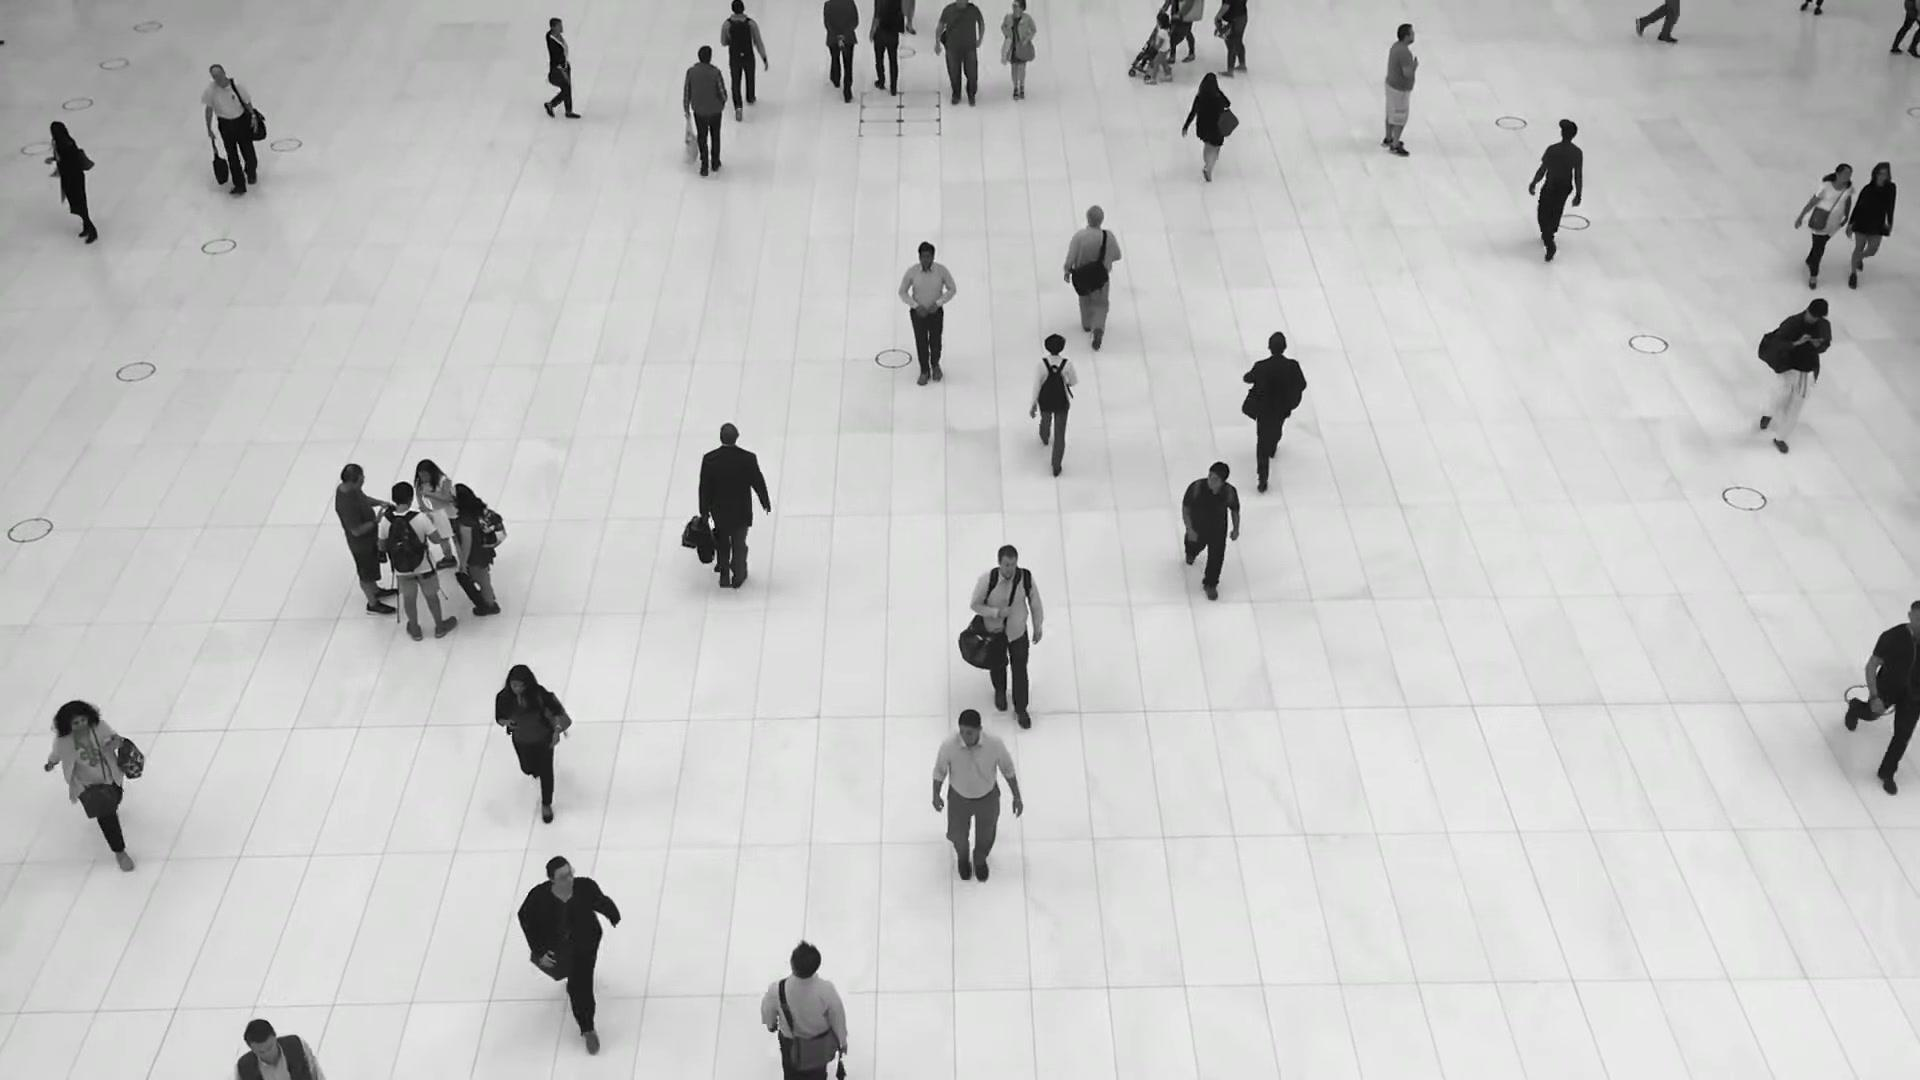person: (516, 851, 618, 1048), (928, 710, 1020, 895), (1842, 588, 1919, 790), (41, 693, 132, 859), (698, 425, 771, 608), (970, 541, 1044, 721), (494, 663, 572, 831), (378, 481, 459, 641), (757, 945, 849, 1079), (1755, 299, 1831, 459), (1242, 331, 1308, 491), (334, 465, 400, 615), (900, 240, 960, 393), (1177, 459, 1240, 608), (1063, 207, 1123, 356), (1527, 120, 1584, 268), (201, 62, 258, 192), (1796, 160, 1855, 286), (44, 119, 101, 242), (1844, 162, 1897, 293), (449, 484, 501, 617), (1030, 332, 1080, 472), (679, 48, 728, 185), (932, 0, 991, 108), (1186, 74, 1238, 189), (718, 1, 767, 120), (533, 17, 588, 120), (1381, 23, 1420, 157), (419, 458, 459, 580), (999, 0, 1038, 103), (821, 0, 860, 100), (868, 0, 904, 95), (1149, 11, 1173, 85)
